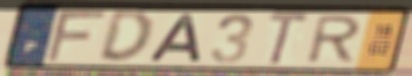3: (209, 12, 256, 65)
A: (144, 12, 205, 63)
D: (95, 9, 155, 66)
F: (42, 9, 111, 64)
R: (302, 14, 365, 66)
T: (266, 10, 313, 68)
